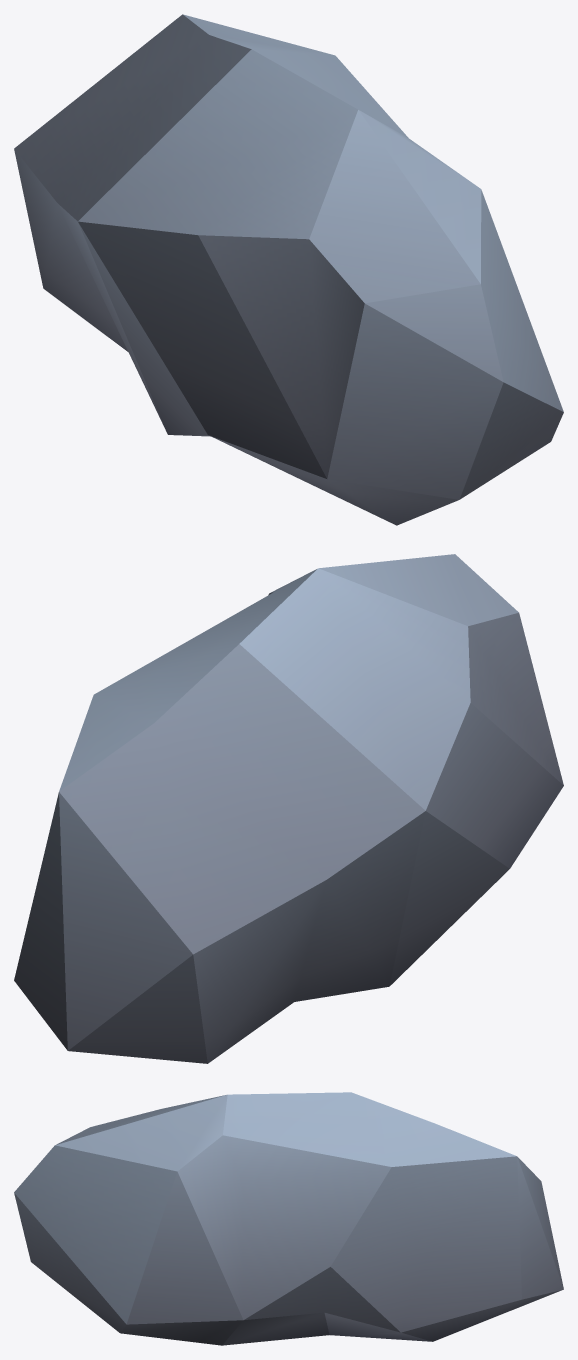
The model's file is SM_Rock_03.fbx.
3 renders of one model, top to bottom at view 1: azimuth 30°, elevation 25°; view 2: azimuth 150°, elevation 25°; view 3: azimuth 270°, elevation 25°, orthographic. The views are drawn at different scales.
Parts seen in each view (by area): view 1: Rock.002; view 2: Rock.002; view 3: Rock.002.
Boxes of the visible parts, box(x1,y1,x2,y2) form: Rock.002: box(14, 14, 563, 525); Rock.002: box(14, 554, 563, 1063); Rock.002: box(14, 1092, 563, 1345).
Bounding box in the file's own units: 239 × 242 × 490.
